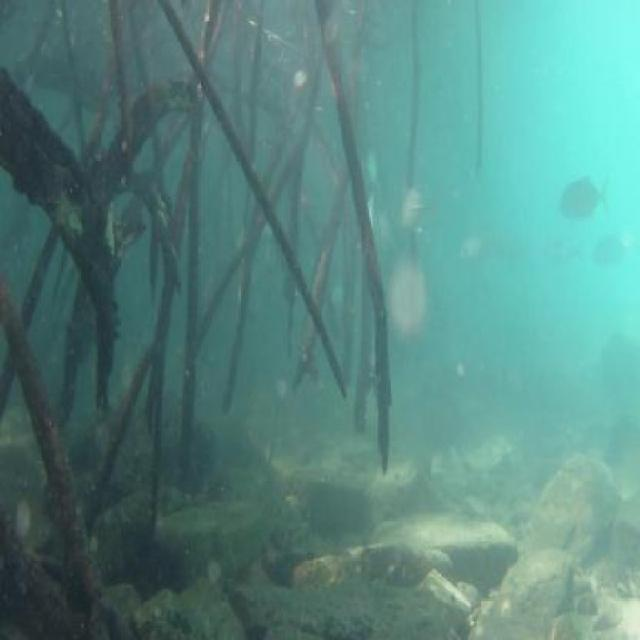Caranx_sexfasciatus_juvenile: (556, 172, 615, 230), (396, 172, 432, 240), (592, 229, 630, 280), (549, 228, 580, 274), (362, 194, 384, 246)
